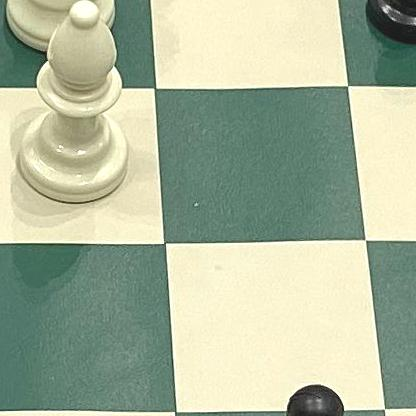black-pawn: (237, 367, 373, 416)
white-bishop: (0, 0, 147, 222)
white-rook: (0, 0, 128, 66)
